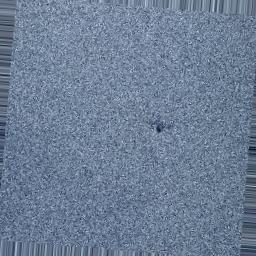Airplane: (144, 116, 175, 134)
